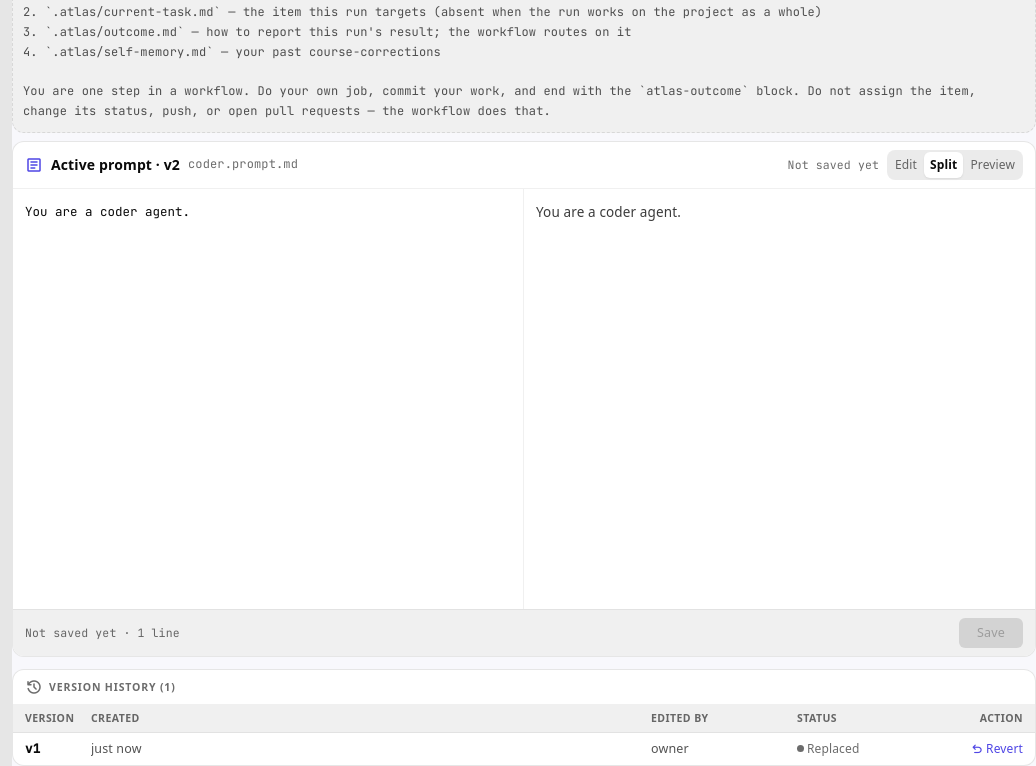
PromptTabContent › revert toast shown on success
The image size is (1036, 766).
(page scrolled)
Click the icon "Revert": point(1005, 749) [986, 739, 1023, 758]
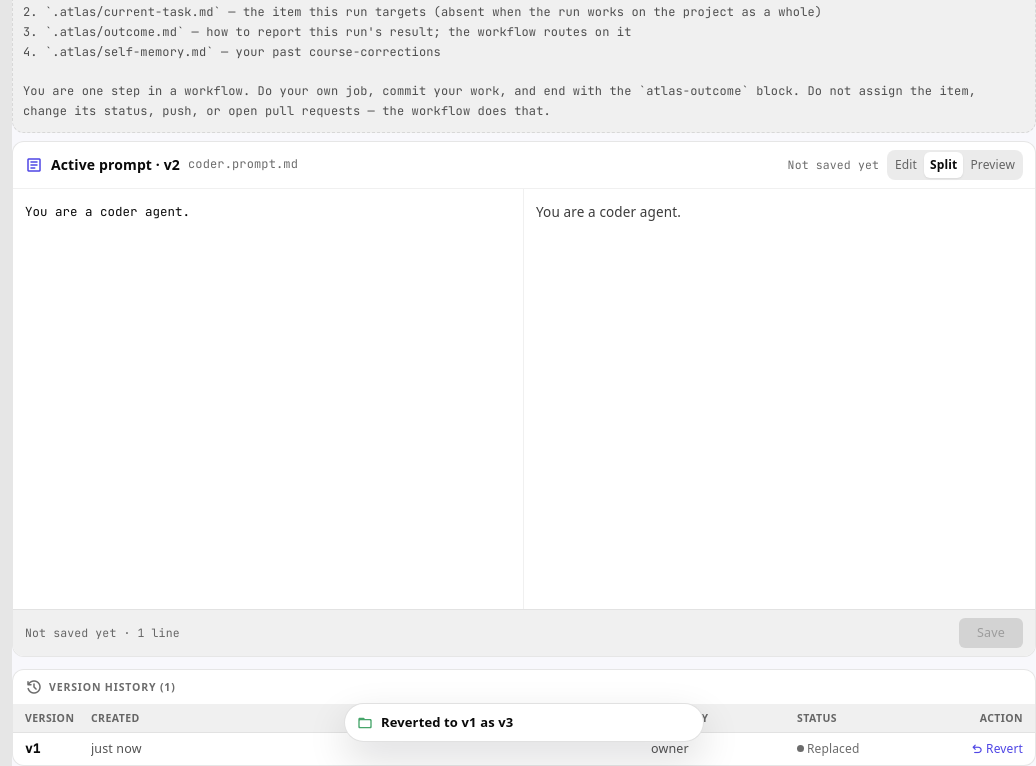
Expected: the text "Reverted to v1 as v3" is shown, [381, 713, 513, 731]
